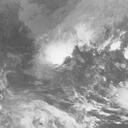cyclone: (32, 33, 77, 72)
